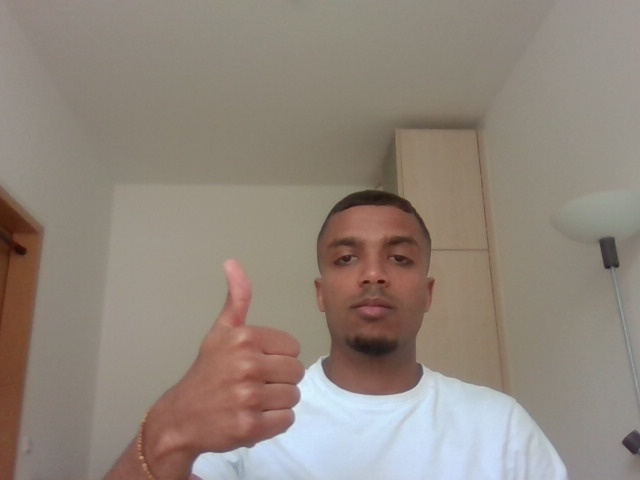yes: (145, 249, 330, 464)
